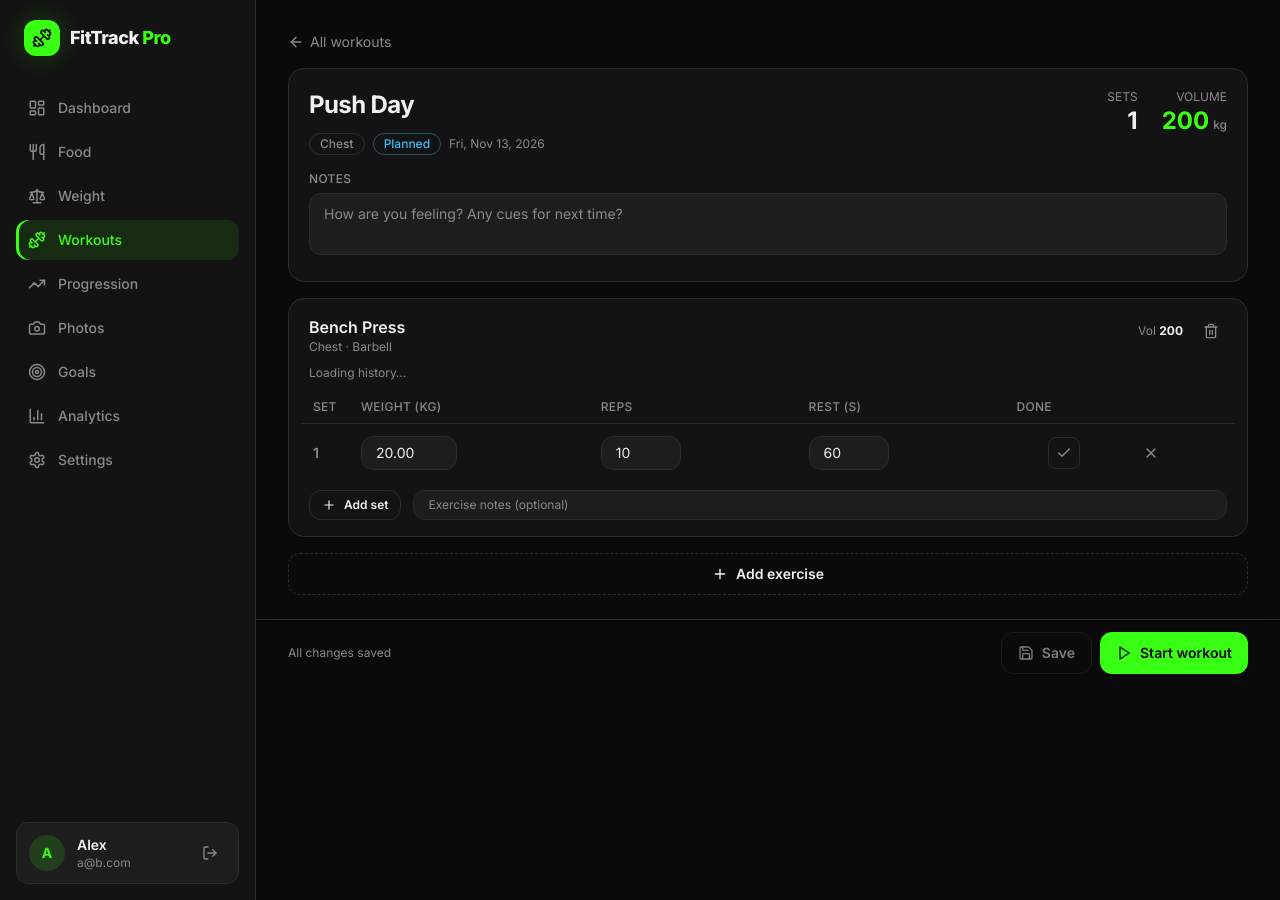
mutations › Start workout PUTs a validated payload with status in_progress
What coordinates should you click on to do the following:
click the button "Start workout"
I would click on:
 (1174, 653)
Its box is [1100,632,1248,674].
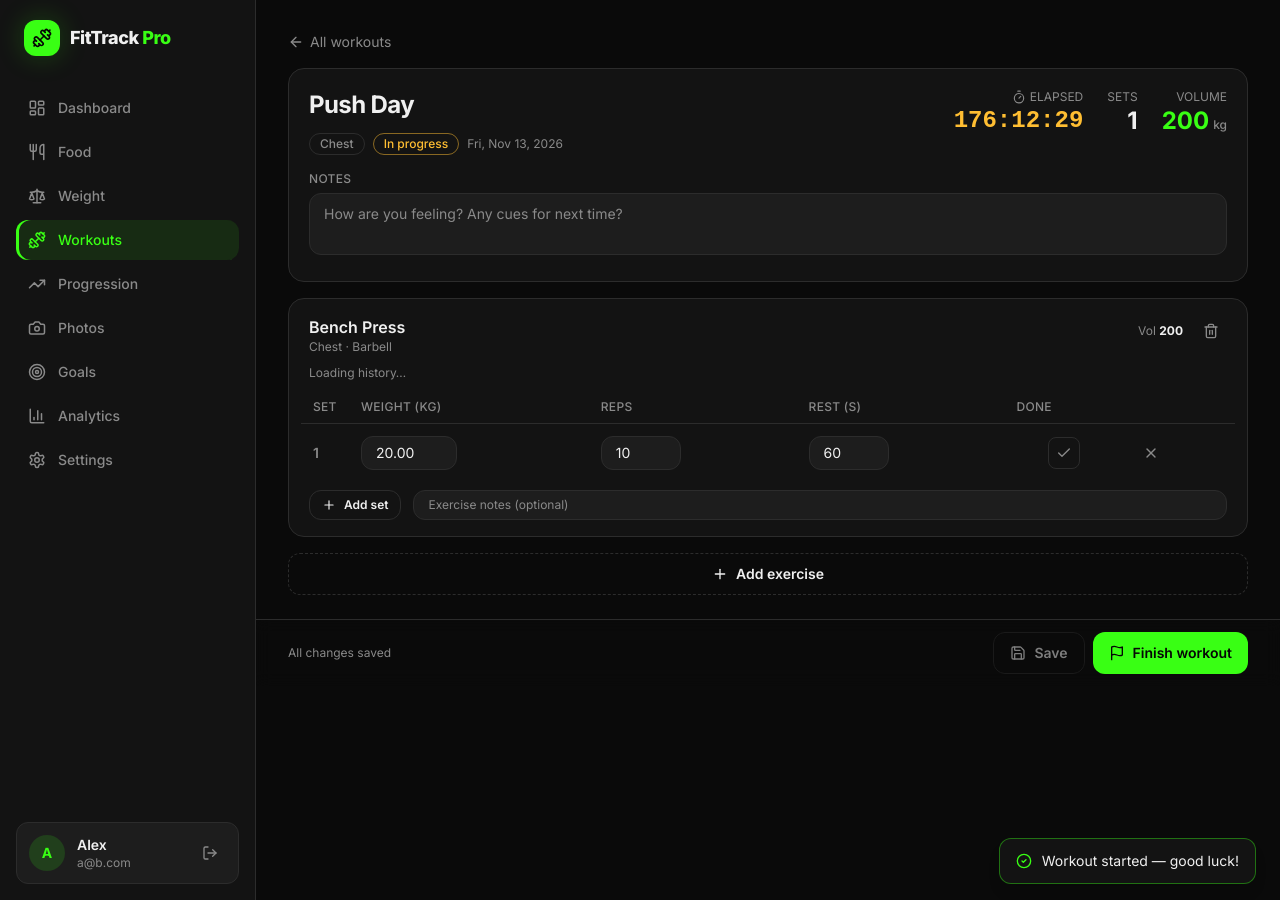
Expected: the button "Finish workout" is shown, [1092,632,1248,674]
